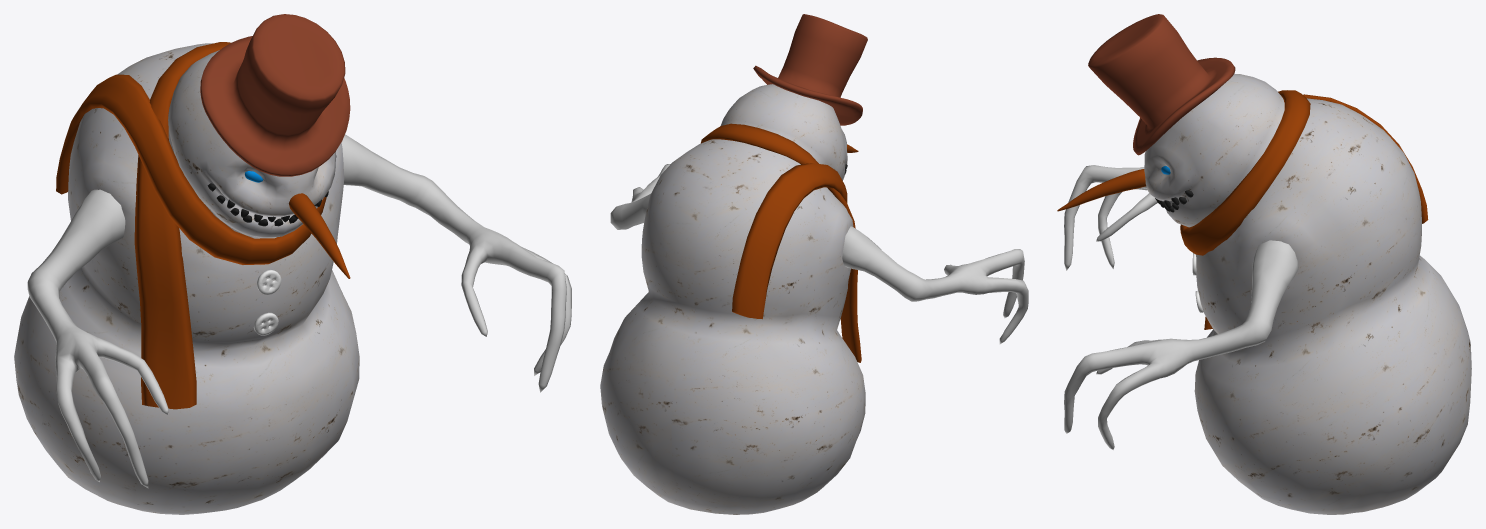
File: SnowMan.fbx
3 renders of one model, left to right at view 1: azimuth 30°, elevation 25°; view 2: azimuth 150°, elevation 25°; view 3: azimuth 270°, elevation 25°, orthographic. The views are drawn at different scales.
Visible parts, largest first — view 1: SnowmanOBJ.002, SnowmanOBJ.001, SnowmanOBJ.003, SnowmanOBJ.004, SnowmanOBJ.005, SnowmanOBJ.007, SnowmanOBJ.006; view 2: SnowmanOBJ.002, SnowmanOBJ.003, SnowmanOBJ.001, SnowmanOBJ.004; view 3: SnowmanOBJ.002, SnowmanOBJ.001, SnowmanOBJ.004, SnowmanOBJ.003, SnowmanOBJ.005.
Part boxes in pixels (x1=…): SnowmanOBJ.002: x1=14, y1=43, x2=359, y2=514; SnowmanOBJ.001: x1=27, y1=134, x2=571, y2=488; SnowmanOBJ.003: x1=56, y1=42, x2=326, y2=409; SnowmanOBJ.004: x1=200, y1=14, x2=350, y2=176; SnowmanOBJ.005: x1=289, y1=193, x2=350, y2=278; SnowmanOBJ.007: x1=253, y1=269, x2=281, y2=335; SnowmanOBJ.006: x1=207, y1=155, x2=336, y2=226; SnowmanOBJ.002: x1=600, y1=84, x2=865, y2=514; SnowmanOBJ.003: x1=700, y1=123, x2=861, y2=362; SnowmanOBJ.001: x1=610, y1=164, x2=1028, y2=344; SnowmanOBJ.004: x1=753, y1=14, x2=867, y2=125; SnowmanOBJ.002: x1=1144, y1=73, x2=1471, y2=514; SnowmanOBJ.001: x1=1064, y1=165, x2=1298, y2=450; SnowmanOBJ.004: x1=1088, y1=14, x2=1235, y2=155; SnowmanOBJ.003: x1=1180, y1=90, x2=1428, y2=329; SnowmanOBJ.005: x1=1057, y1=169, x2=1146, y2=211.
Size of the model in its own units: 16356 by 16731 by 13490.
